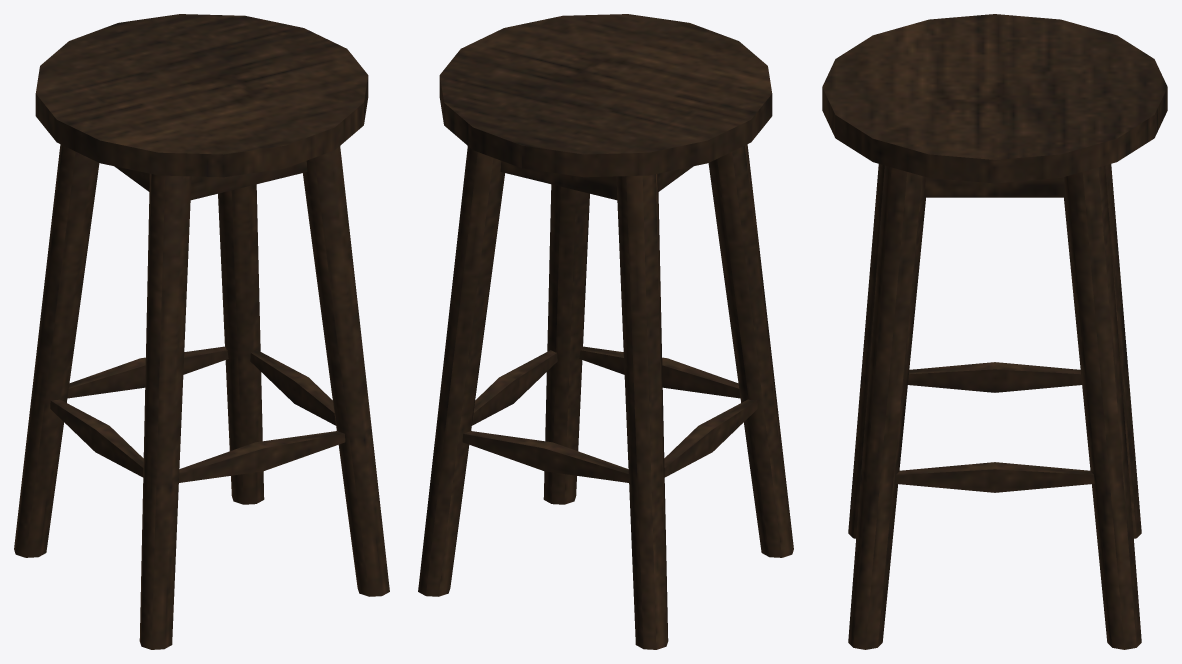
File: chair_mp_2_1.fbx
The picture shows the model from 3 angles, left to right: view 1: azimuth 30°, elevation 25°; view 2: azimuth 150°, elevation 25°; view 3: azimuth 270°, elevation 25°; orthographic projection. The views are drawn at different scales.
Parts seen in each view (by area): view 1: chair_mp_2_1; view 2: chair_mp_2_1; view 3: chair_mp_2_1.
Boxes of the visible parts, <box> form: chair_mp_2_1: <box>14,14,389,649</box>; chair_mp_2_1: <box>418,14,793,649</box>; chair_mp_2_1: <box>822,14,1167,649</box>.
Bounding box in the file's own units: 0.4 × 0.4 × 0.64.
